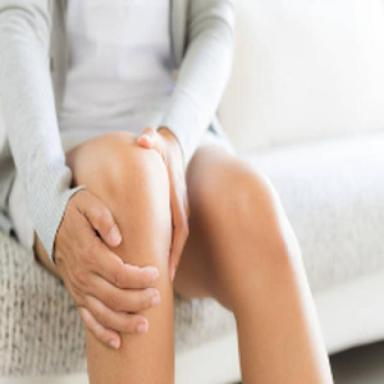normal skin: (55, 127, 332, 384)
